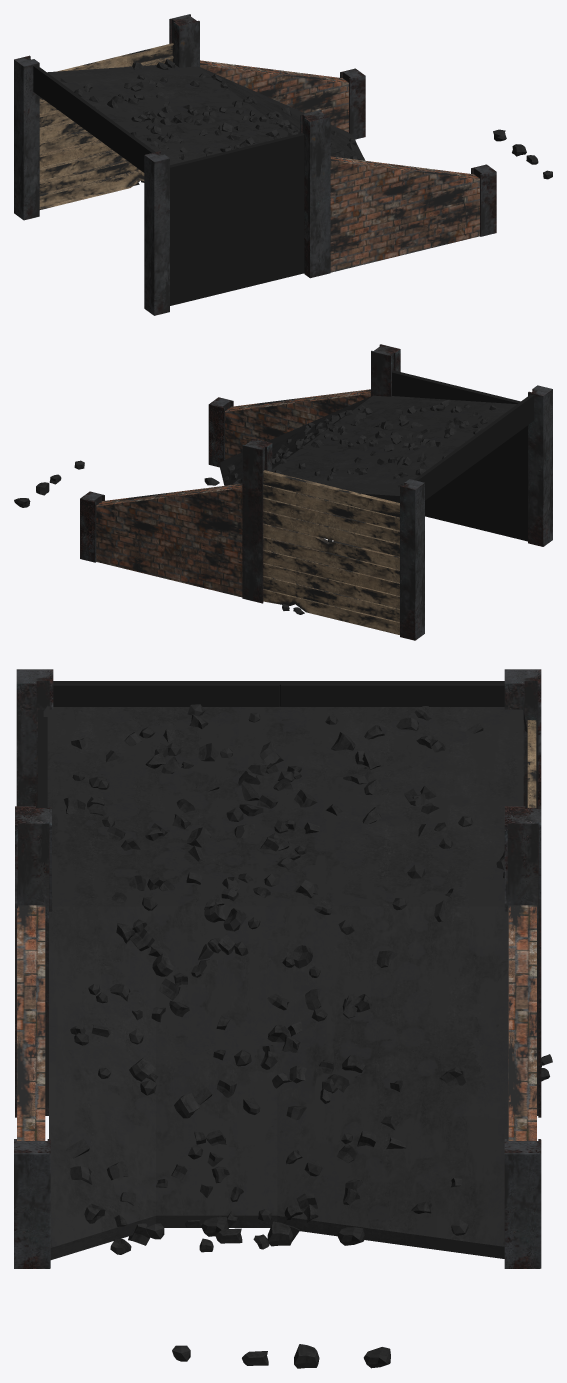
File: coal_deposit.glb
3 renders of one model, top to bottom at view 1: azimuth 30°, elevation 25°; view 2: azimuth 150°, elevation 25°; view 3: azimuth 270°, elevation 25°, orthographic. The views are drawn at different scales.
Visible parts, largest first — view 1: fake_side_21, bricks_6, coal_7, back_bar_4, wood_side_24, mid_bar_23, back_fake_5, front_bar_22; view 2: wood_side_24, bricks_6, coal_7, fake_side_21, back_bar_4, mid_bar_23, back_fake_5, front_bar_22; view 3: coal_7, bricks_6, back_fake_5, mid_bar_23, front_bar_22, back_bar_4, fake_side_21, wood_side_24.
Boxes of the visible parts, x1=… form: fake_side_21: x1=170, y1=133, x2=304, y2=305; bricks_6: x1=200, y1=60, x2=479, y2=272; coal_7: x1=39, y1=65, x2=365, y2=164; back_bar_4: x1=14, y1=55, x2=169, y2=315; wood_side_24: x1=39, y1=43, x2=173, y2=209; mid_bar_23: x1=169, y1=14, x2=330, y2=278; back_fake_5: x1=33, y1=65, x2=155, y2=172; front_bar_22: x1=340, y1=68, x2=496, y2=236; wood_side_24: x1=263, y1=470, x2=399, y2=634; bricks_6: x1=96, y1=389, x2=370, y2=597; coal_7: x1=220, y1=395, x2=516, y2=502; fake_side_21: x1=392, y1=370, x2=527, y2=541; back_bar_4: x1=400, y1=385, x2=552, y2=640; mid_bar_23: x1=242, y1=344, x2=400, y2=603; back_fake_5: x1=414, y1=394, x2=533, y2=500; front_bar_22: x1=80, y1=397, x2=233, y2=562; coal_7: x1=43, y1=706, x2=527, y2=1259; bricks_6: x1=17, y1=905, x2=536, y2=1140; back_fake_5: x1=53, y1=681, x2=504, y2=706; mid_bar_23: x1=15, y1=806, x2=541, y2=1117; front_bar_22: x1=14, y1=1139, x2=541, y2=1268; back_bar_4: x1=16, y1=669, x2=541, y2=807; fake_side_21: x1=38, y1=709, x2=47, y2=807; wood_side_24: x1=527, y1=720, x2=536, y2=807.
Bounding box in the file's own units: 6.03 × 2.1 × 3.34.
Materials: 2 (1 with a texture image).
